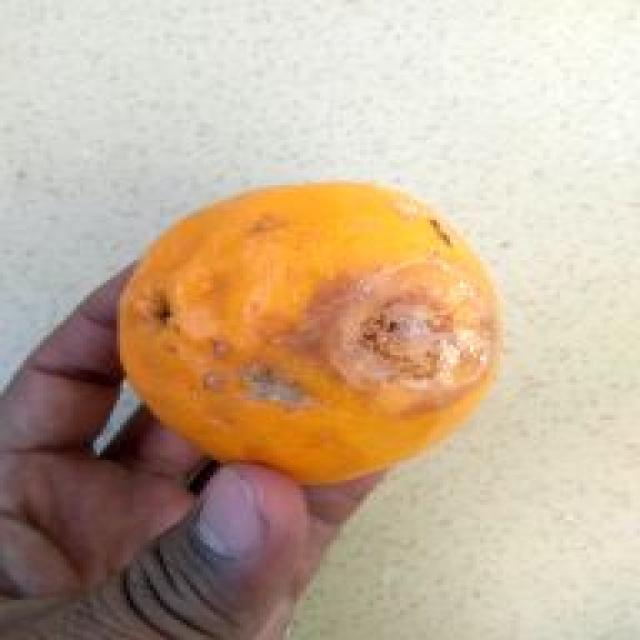Bad_Orange: (118, 182, 500, 482)
